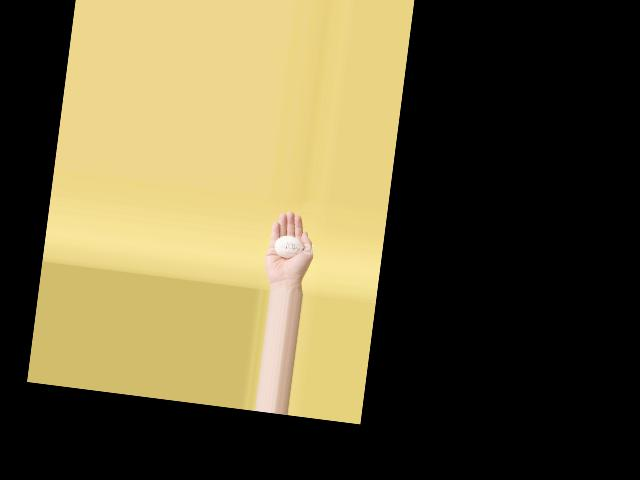egg: (273, 234, 304, 259)
